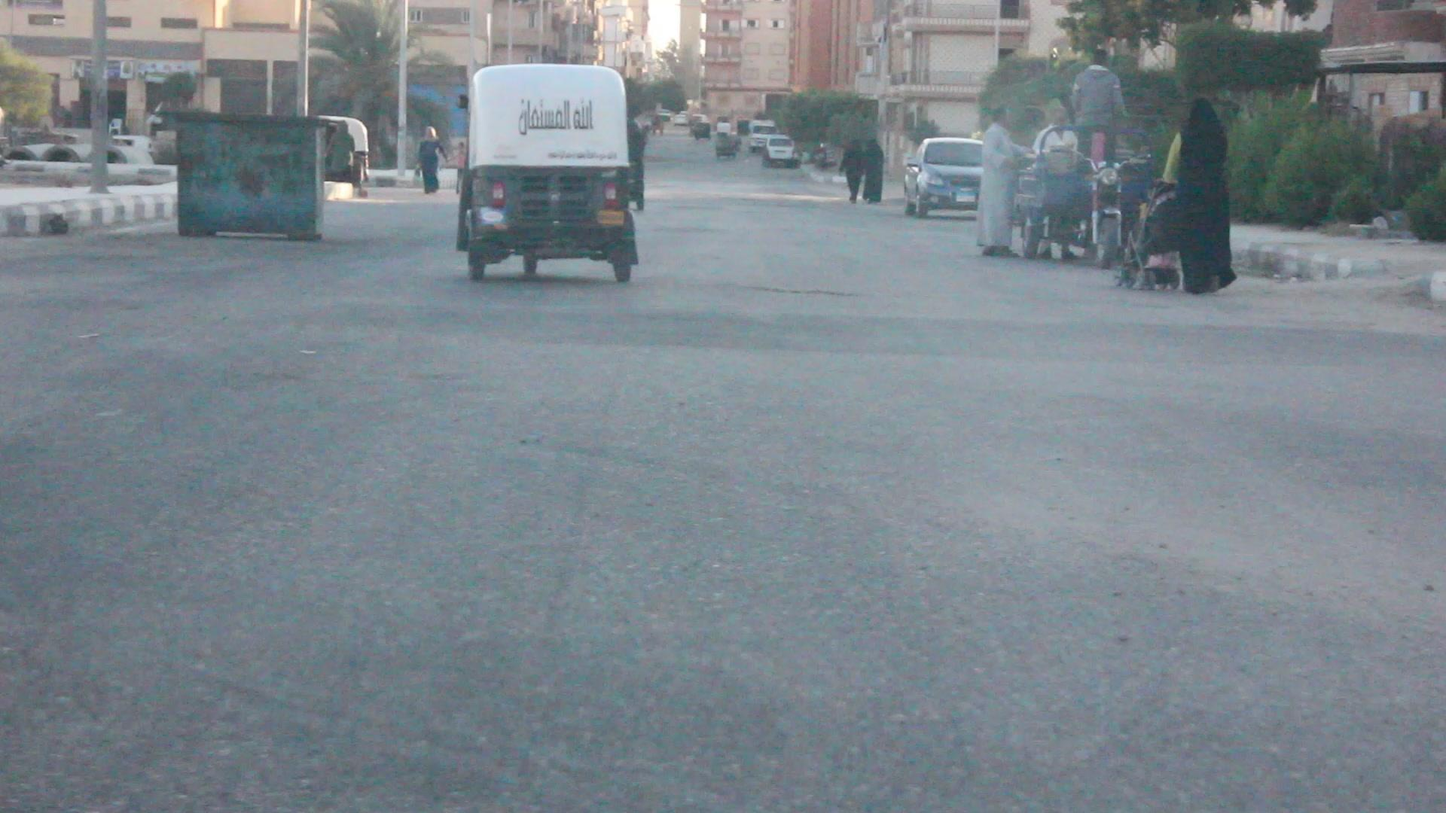Bump: (2, 311, 1446, 376)
